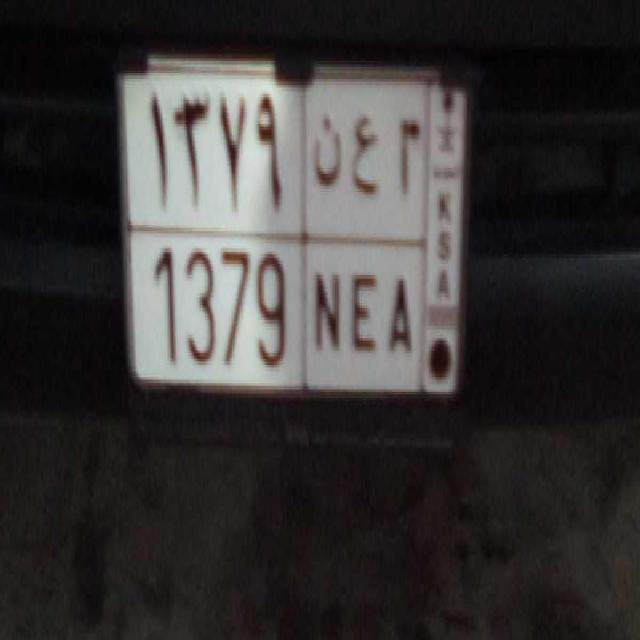license_plate: (127, 225, 421, 389)
